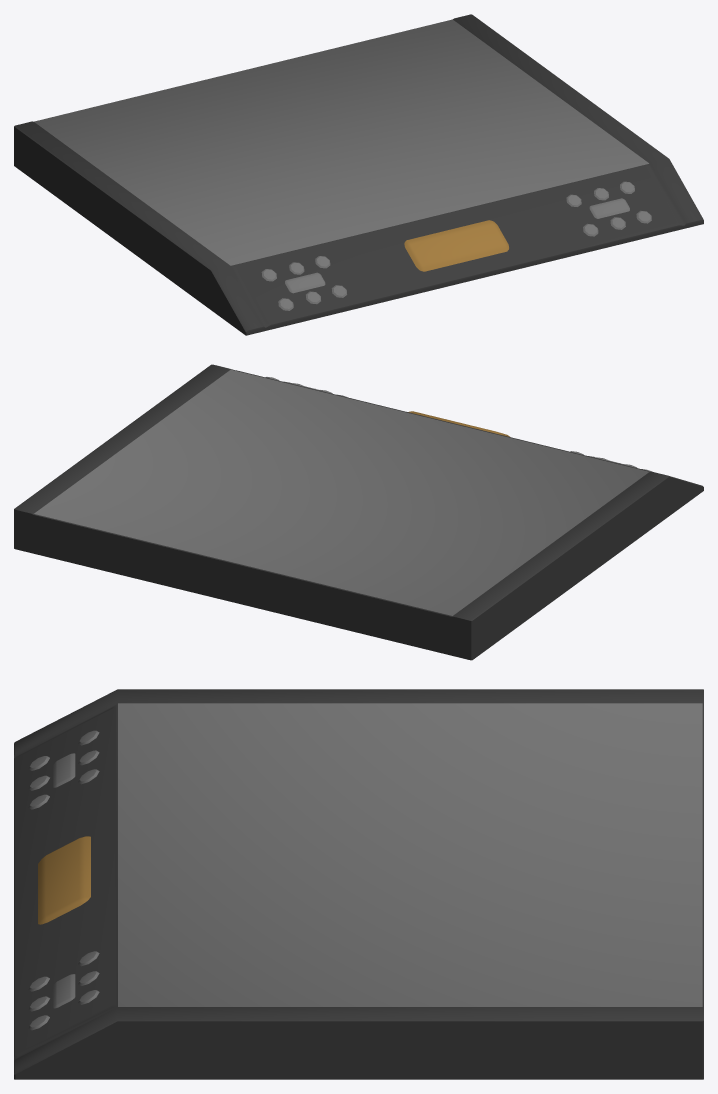
The model's file is C61Racn.FBX.
3 views of the same model, one above another, from view 1: azimuth 30°, elevation 25°; view 2: azimuth 150°, elevation 25°; view 3: azimuth 270°, elevation 25° (orthographic). The views are drawn at different scales.
Parts seen in each view (by area): view 1: C61Racn; view 2: C61Racn; view 3: C61Racn.
Part boxes in pixels (x1,y1,x2,y2): C61Racn: (14, 14, 703, 335); C61Racn: (14, 364, 703, 660); C61Racn: (14, 689, 703, 1079).
Bounding box in the file's own units: 57.5 × 50.5 × 5.26.
